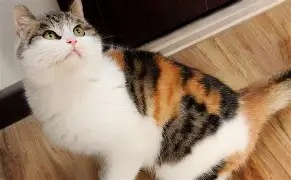三花猫: (0, 6, 135, 179)
